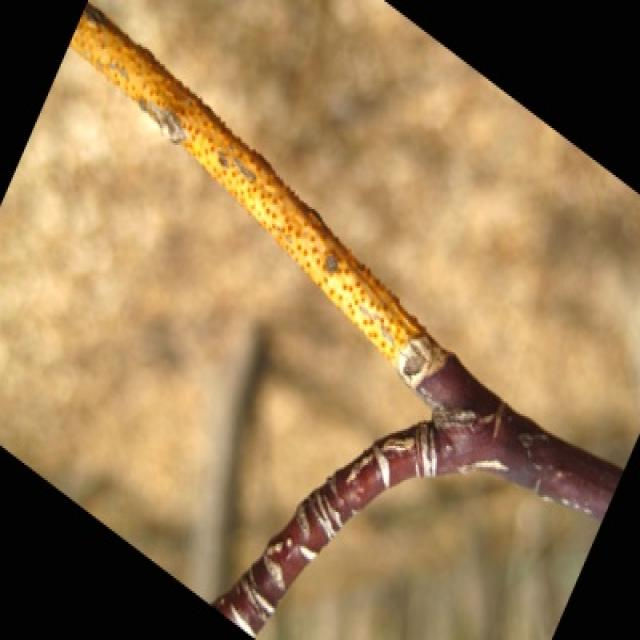Golden_canker: (66, 0, 448, 397)
